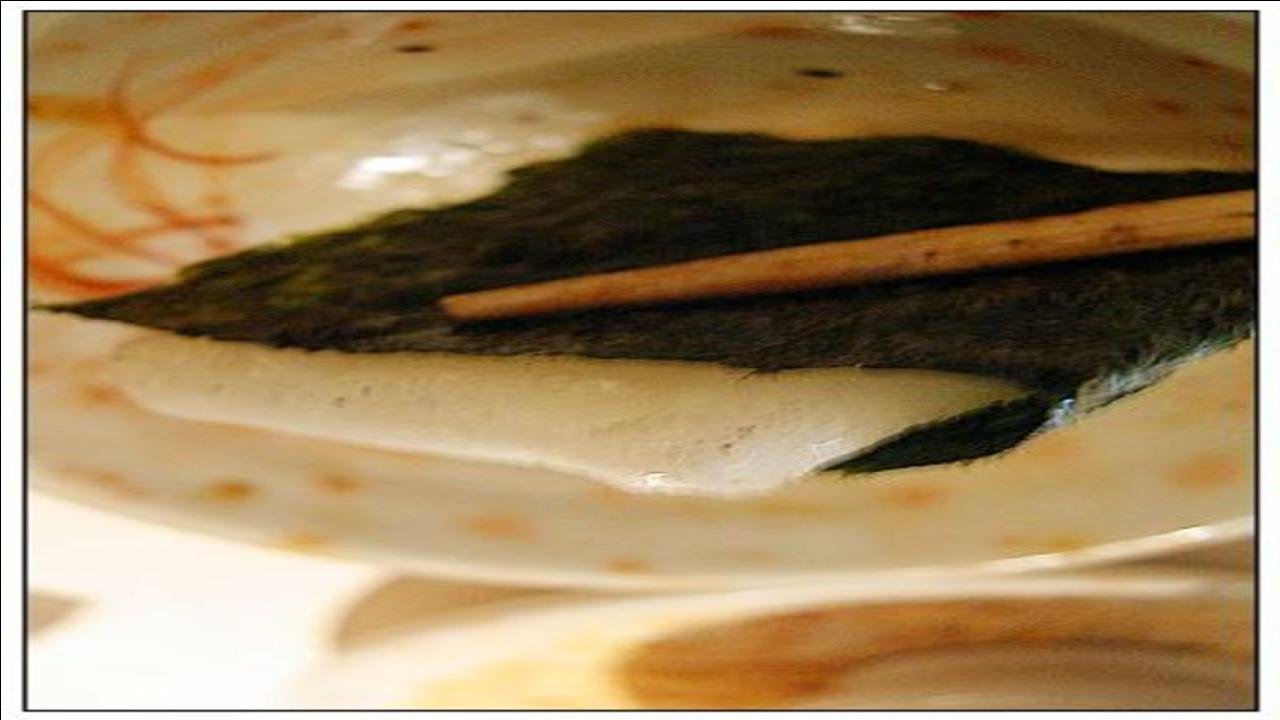chopstick: (440, 193, 1254, 316)
